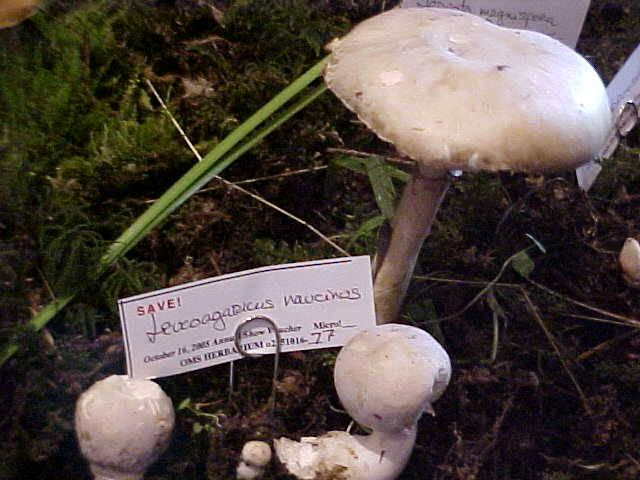Non-edible Mushroom: (320, 5, 615, 324), (229, 329, 467, 480), (73, 373, 175, 478)
